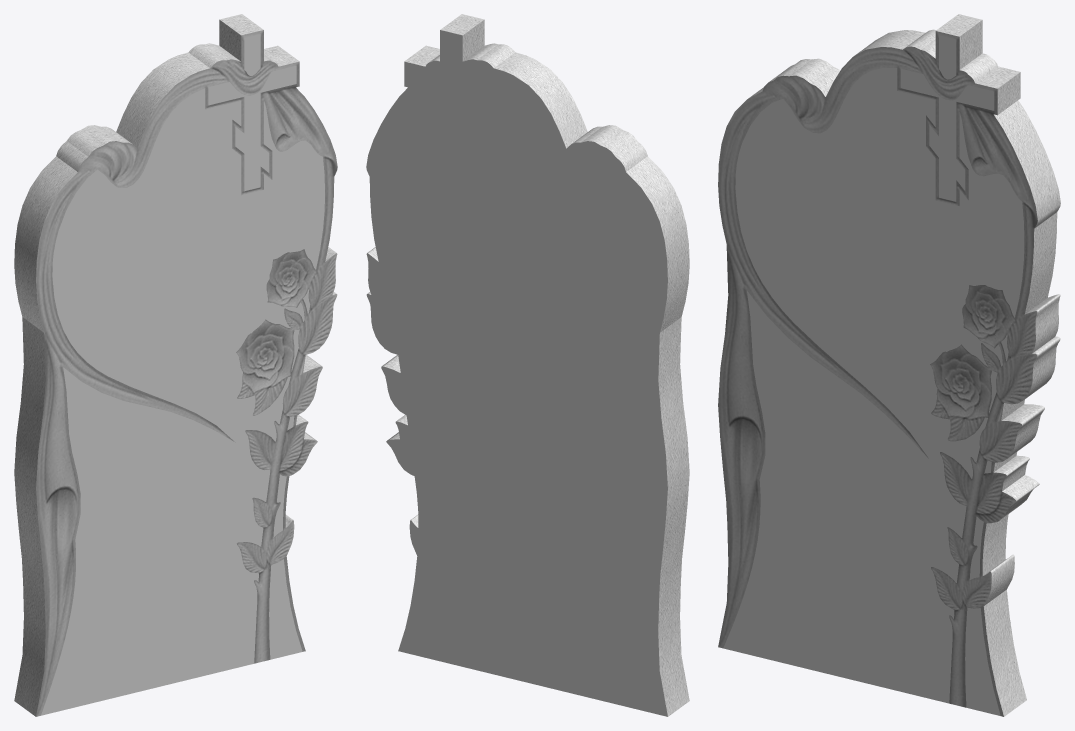
Rendered from cnd5168475ae_tkf.glb.
3 renders of one model, left to right at view 1: azimuth 30°, elevation 25°; view 2: azimuth 150°, elevation 25°; view 3: azimuth 330°, elevation 25°, orthographic. The views are drawn at different scales.
Parts seen in each view (by area): view 1: Pam-d03-082, Pam-d03-082_2_notexture; view 2: Pam-d03-082, Pam-d03-082_2_notexture; view 3: Pam-d03-082, Pam-d03-082_2_notexture.
Part boxes in pixels (x1=…): Pam-d03-082: x1=41, y1=34, x2=324, y2=715; Pam-d03-082_2_notexture: x1=14, y1=14, x2=337, y2=716; Pam-d03-082: x1=366, y1=30, x2=667, y2=716; Pam-d03-082_2_notexture: x1=367, y1=14, x2=689, y2=716; Pam-d03-082: x1=723, y1=35, x2=1024, y2=715; Pam-d03-082_2_notexture: x1=718, y1=14, x2=1060, y2=716.
Bounding box in the file's own units: 0.4 × 0.8 × 0.05.
Materials: 1 (1 with a texture image).
